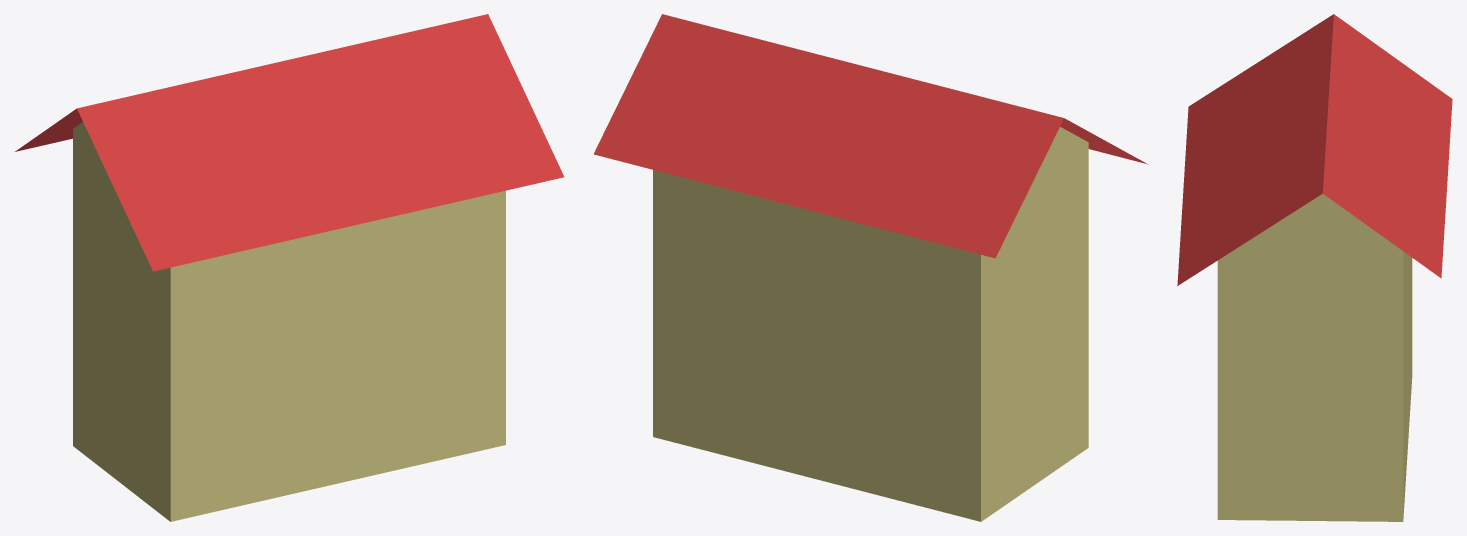
3 views of the same model, side by side, from view 1: azimuth 30°, elevation 25°; view 2: azimuth 150°, elevation 25°; view 3: azimuth 270°, elevation 25° (orthographic). The views are drawn at different scales.
Bounding box in the file's own units: 8.27 × 5.27 × 7.27.
